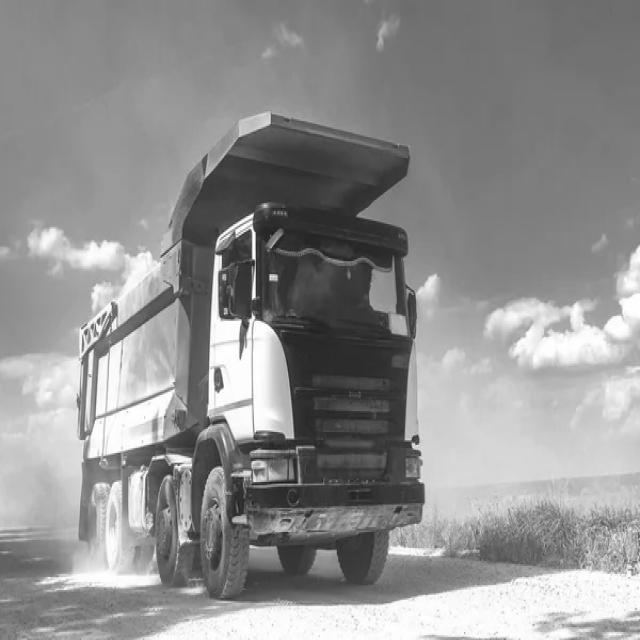Truck: (76, 113, 426, 599)
